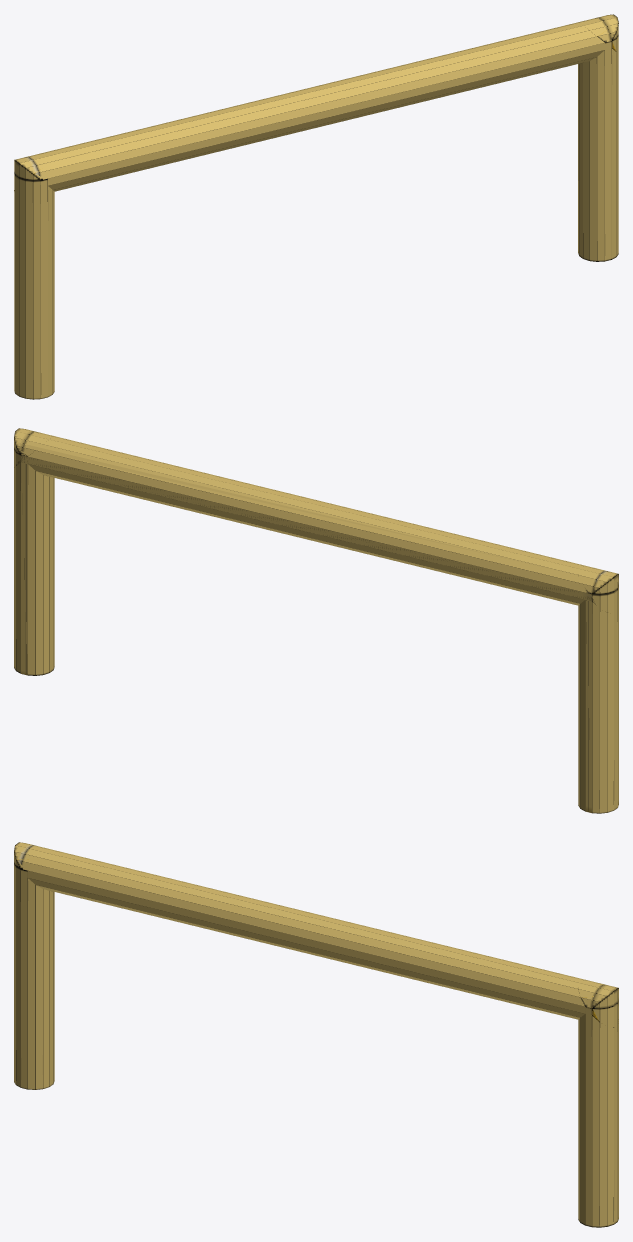
The model's file is arch.obj.
The picture shows the model from 3 angles, top to bottom: view 1: azimuth 30°, elevation 25°; view 2: azimuth 150°, elevation 25°; view 3: azimuth 330°, elevation 25°; orthographic projection.
Visible parts, largest first — view 1: arch; view 2: arch; view 3: arch.
Part boxes in pixels (x1,y1,x2,y2): arch: [14, 14, 618, 399]; arch: [14, 428, 618, 813]; arch: [14, 842, 618, 1227].
Bounding box in the file's own units: 25.47 × 9.49 × 1.47.
Materials: 1 (1 with a texture image).
